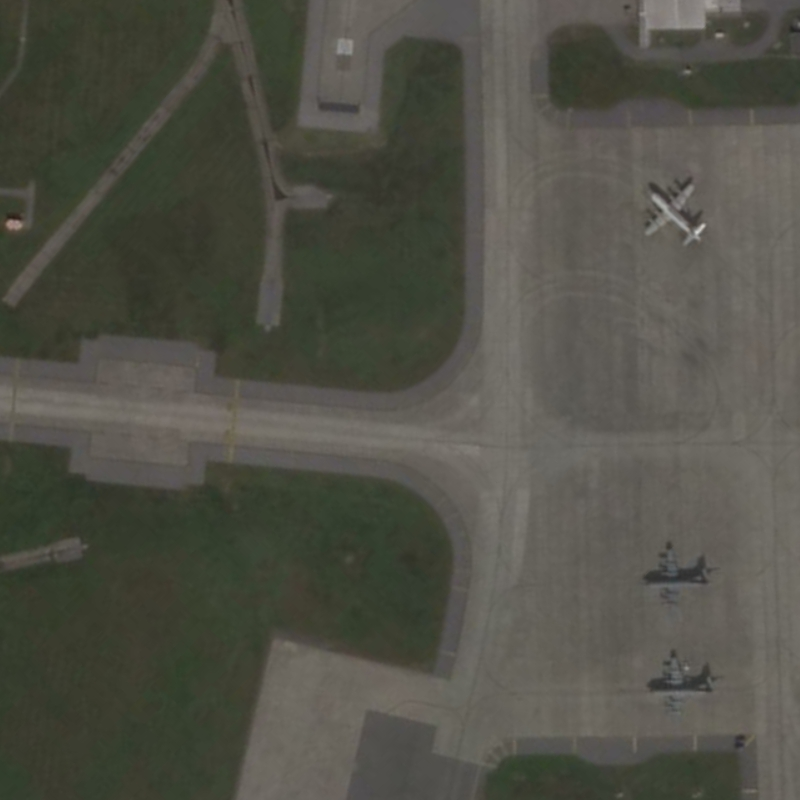A9: (632, 170, 717, 250), (641, 529, 719, 615), (643, 644, 725, 722)
